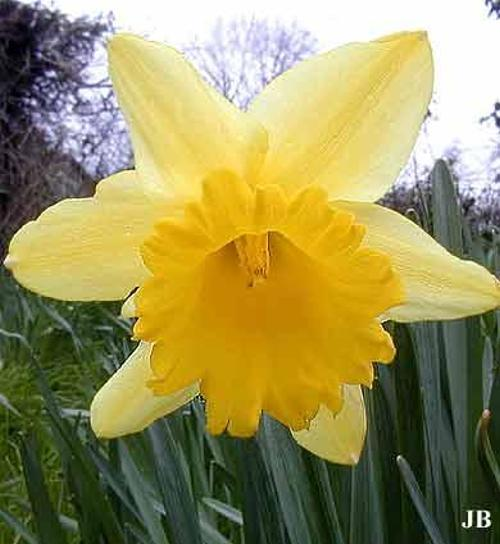flower1: (5, 33, 500, 449)
